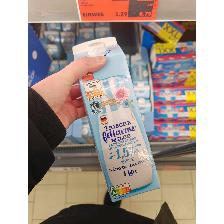Milch: (71, 36, 162, 204)
